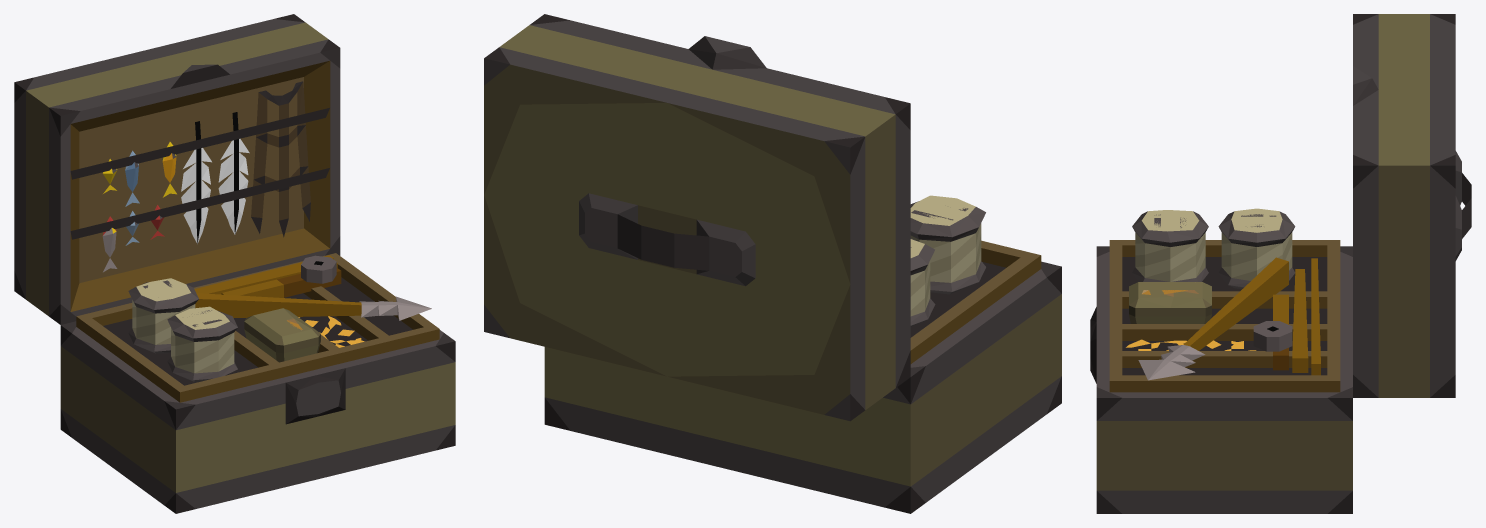
File: tackle-box.gltf
3 renders of one model, left to right at view 1: azimuth 30°, elevation 25°; view 2: azimuth 150°, elevation 25°; view 3: azimuth 270°, elevation 25°, orthographic. The views are drawn at different scales.
Size of the model in its own units: 112 by 125 by 119.
2 materials, 2 textured.
